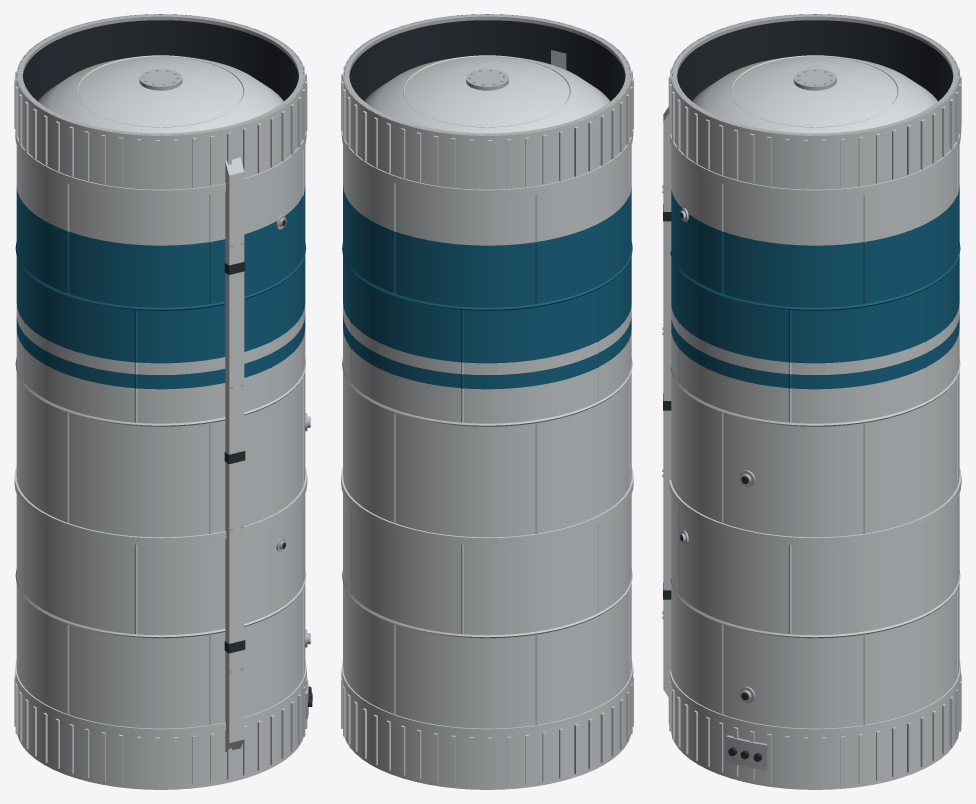
Rendered from tank_s2_xl.fbx.
3 views of the same model, side by side, from view 1: azimuth 30°, elevation 25°; view 2: azimuth 150°, elevation 25°; view 3: azimuth 270°, elevation 25° (orthographic).
Parts seen in each view (by area): view 1: tank_s2_xl_LOD0; view 2: tank_s2_xl_LOD0; view 3: tank_s2_xl_LOD0.
Boxes of the visible parts, bbox=[...] form: tank_s2_xl_LOD0: bbox=[14, 14, 312, 789]; tank_s2_xl_LOD0: bbox=[341, 14, 633, 789]; tank_s2_xl_LOD0: bbox=[662, 14, 961, 789].
Size of what is drawn, in the model's own units: 5.48 by 13.5 by 5.6.
